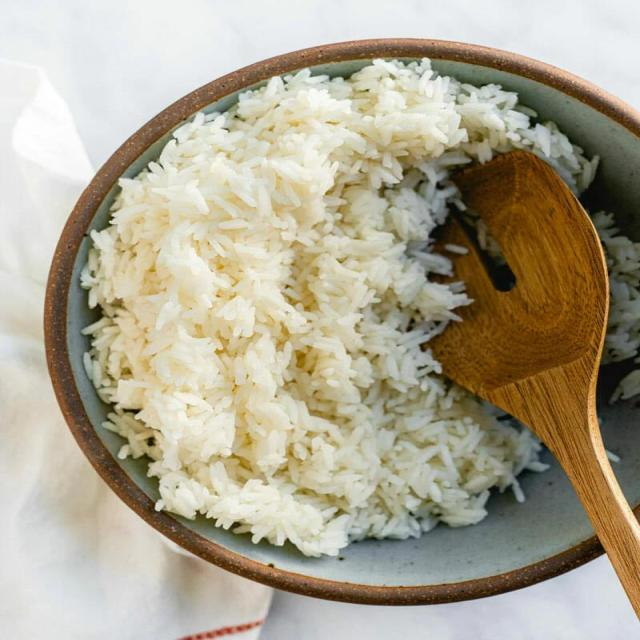rice: (90, 75, 608, 547)
